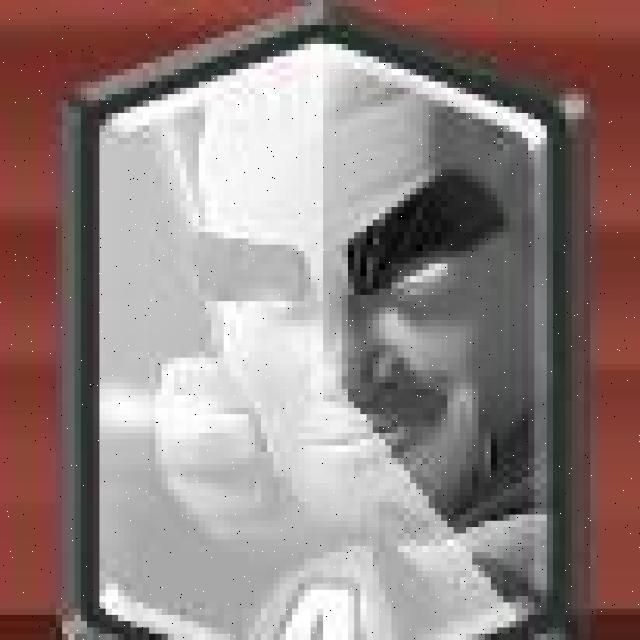Magic_Archer: (77, 5, 579, 640)
